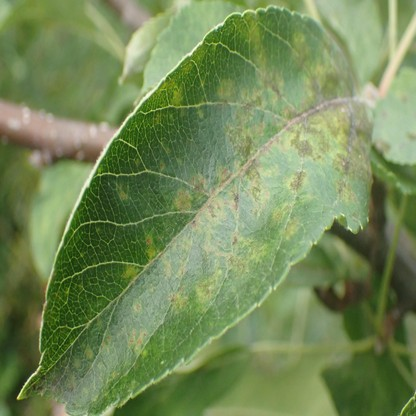scab: (29, 14, 372, 416), (374, 140, 390, 155), (394, 87, 407, 100), (381, 109, 391, 120), (406, 130, 415, 142)
